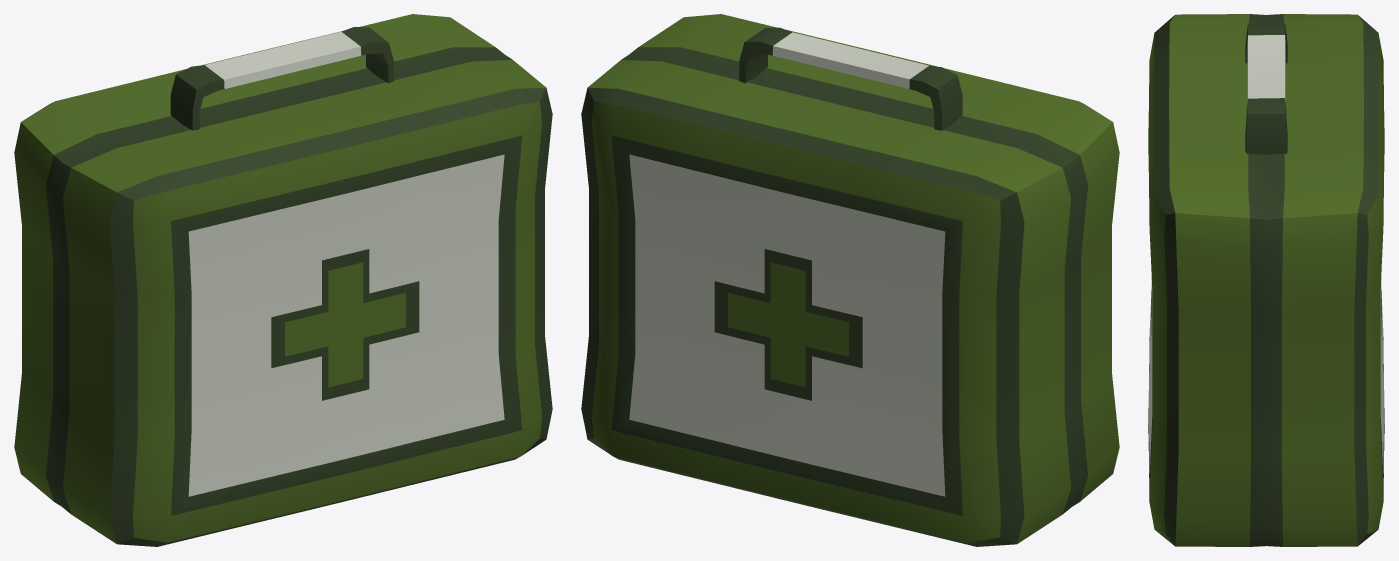
Rendered from Health.fbx.
3 renders of one model, left to right at view 1: azimuth 30°, elevation 25°; view 2: azimuth 150°, elevation 25°; view 3: azimuth 270°, elevation 25°, orthographic. The views are drawn at different scales.
Visible parts, largest first — view 1: Health; view 2: Health; view 3: Health.
Part boxes in pixels (bbox=[...]): Health: bbox=[14, 14, 552, 546]; Health: bbox=[581, 14, 1119, 546]; Health: bbox=[1148, 14, 1384, 546].
Size of the model in its own units: 86.1 by 73.76 by 40.39.
